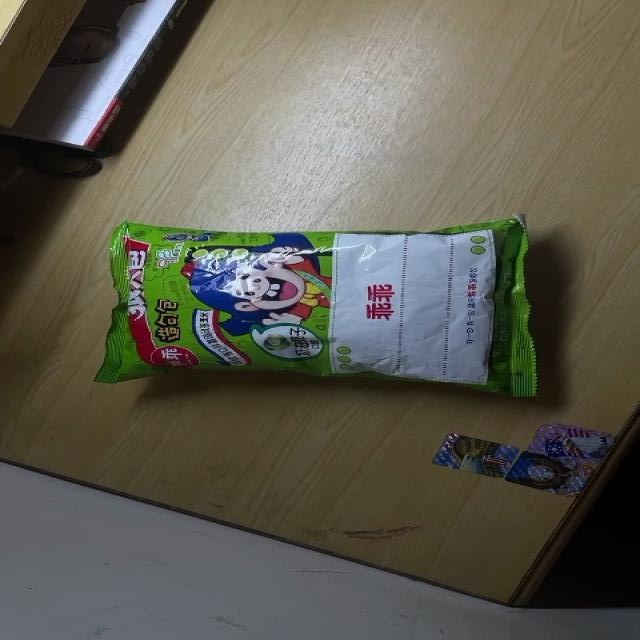Good-Luck: (86, 212, 536, 396)
